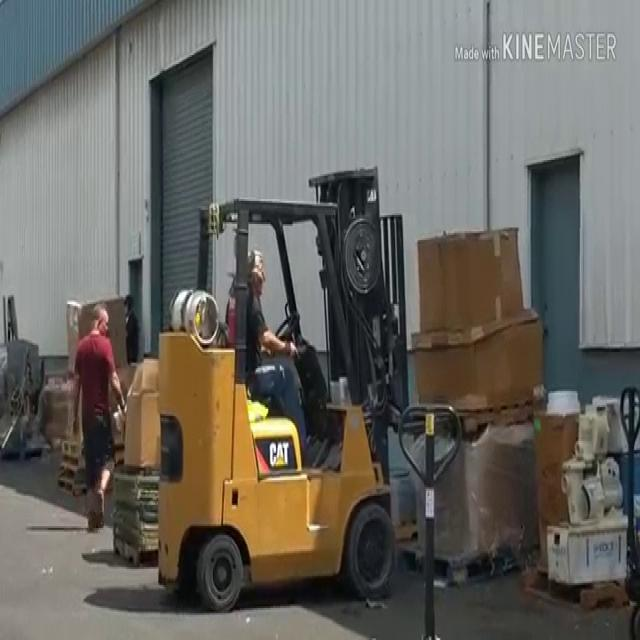Chariot elevateur: (154, 164, 412, 614)
